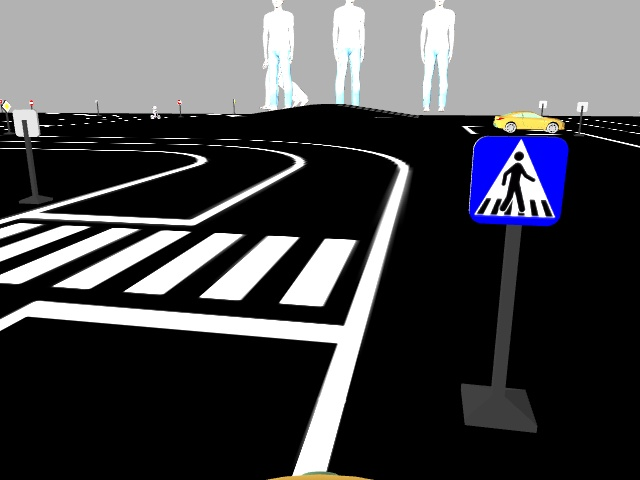Crosswalk: (469, 135, 560, 223)
